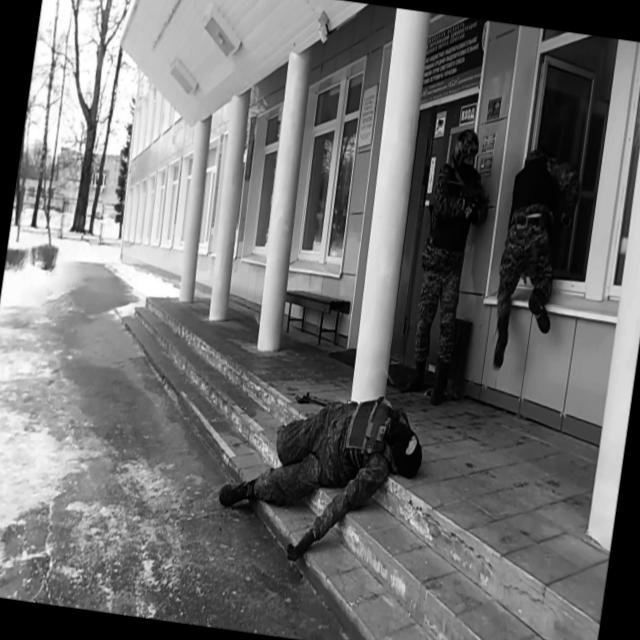gun: (442, 166, 491, 216)
person: (211, 374, 430, 579), (486, 142, 587, 379)
person with a gun: (404, 122, 498, 408)
